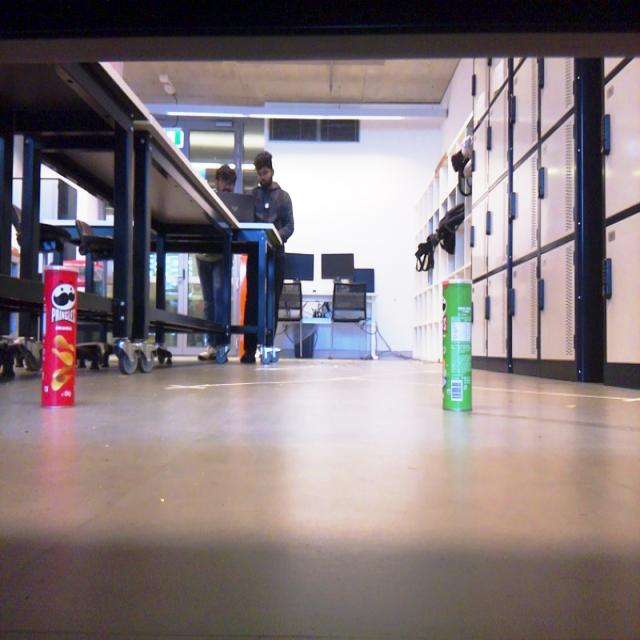greenpringles: (440, 262, 477, 418)
redpringles: (38, 255, 86, 406)
